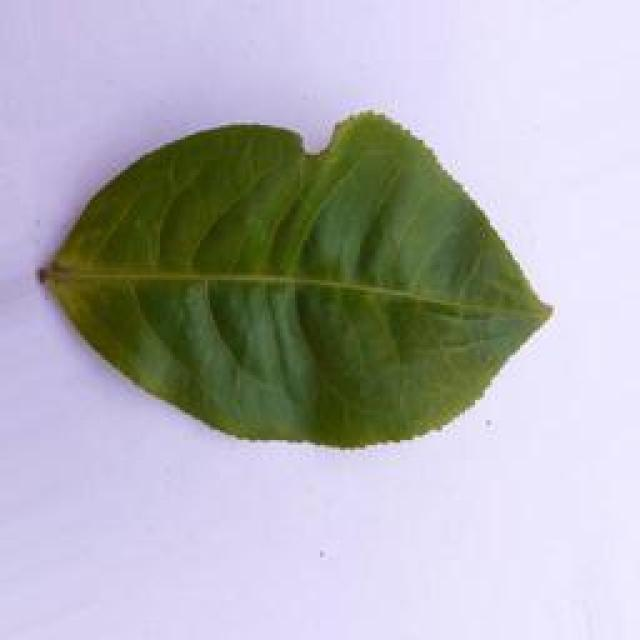Healthy: (41, 113, 561, 459)
